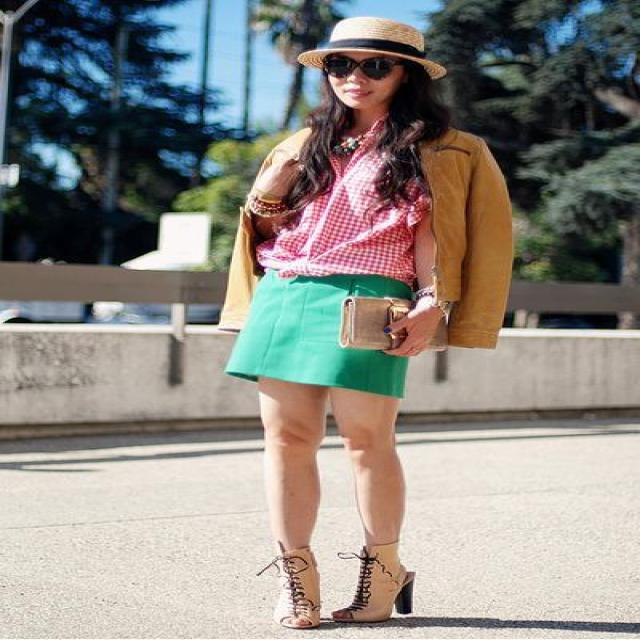bag: (342, 294, 408, 356)
hat: (326, 0, 445, 78)
jacket: (184, 127, 520, 348)
shirt: (245, 120, 450, 278)
shoe: (276, 543, 414, 629)
skirt: (228, 270, 422, 396)
sunglass: (322, 40, 422, 82)
